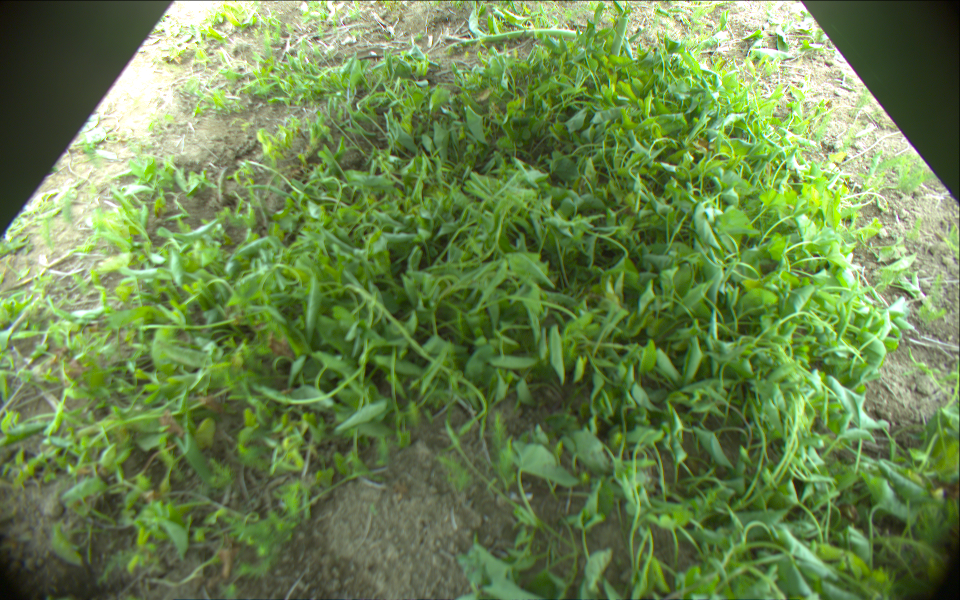aspa: (447, 29, 591, 50)
